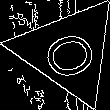O_NE: (34, 21, 103, 81)
